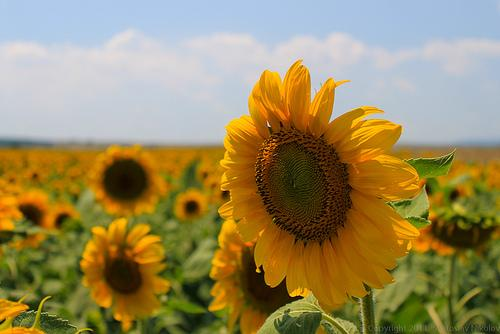sunflower: (219, 59, 424, 306), (78, 219, 170, 325), (86, 145, 165, 216)
